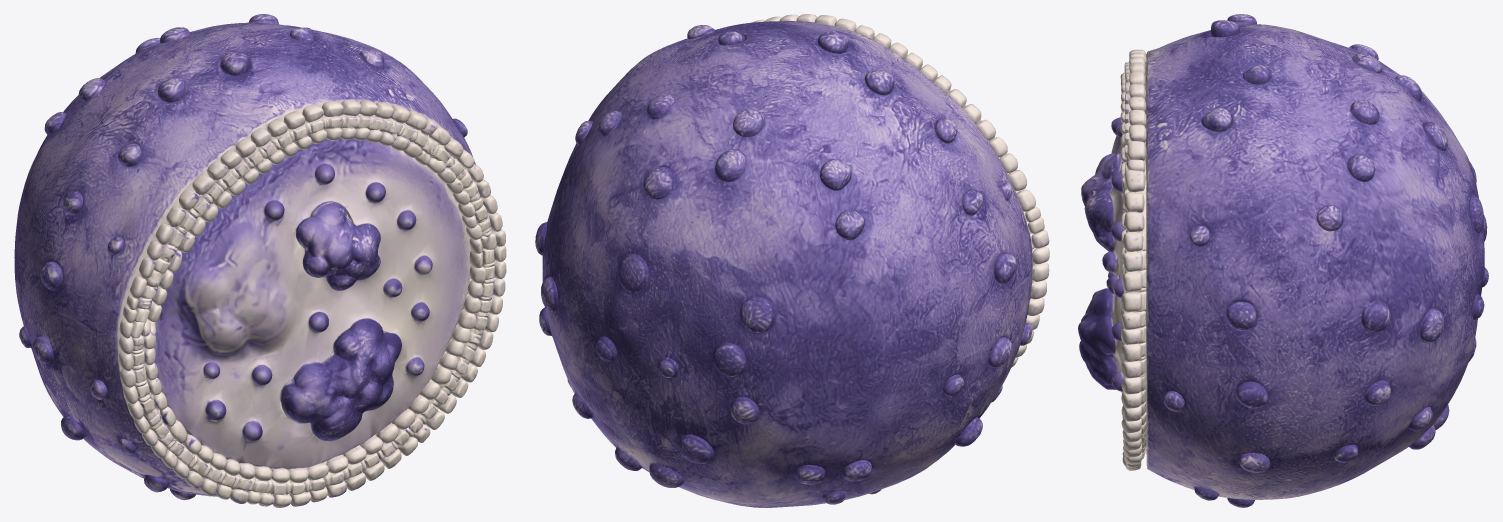
File: peroxisome.glb
The picture shows the model from 3 angles, left to right: view 1: azimuth 30°, elevation 25°; view 2: azimuth 150°, elevation 25°; view 3: azimuth 270°, elevation 25°; orthographic projection. The views are drawn at different scales.
Parts seen in each view (by area): view 1: model; view 2: model; view 3: model.
Boxes of the visible parts, bbox=[...] form: model: bbox=[14, 14, 506, 507]; model: bbox=[535, 14, 1049, 507]; model: bbox=[1078, 14, 1488, 507].
Bounding box in the file's own units: 1.9 × 1.87 × 1.58.
Materials: 1 (1 with a texture image).
